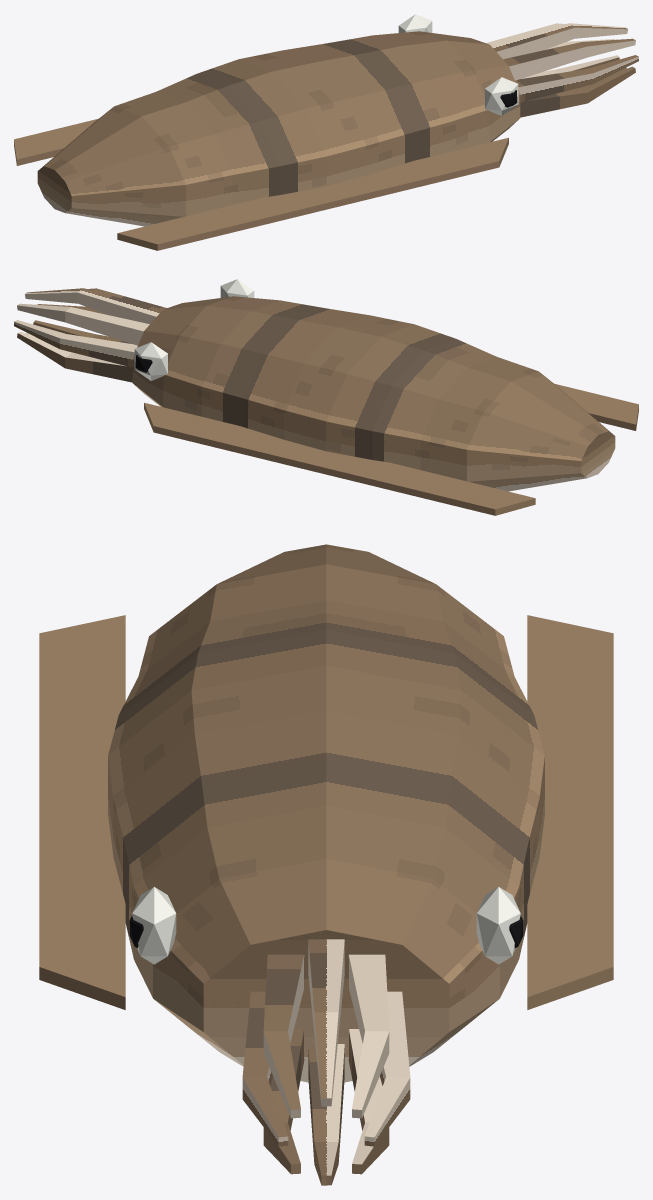
The model's file is cuttlefish.glb.
The picture shows the model from 3 angles, top to bottom: view 1: azimuth 30°, elevation 25°; view 2: azimuth 150°, elevation 25°; view 3: azimuth 270°, elevation 25°; orthographic projection. The views are drawn at different scales.
Parts seen in each view (by area): view 1: fish_cuttlefish; view 2: fish_cuttlefish; view 3: fish_cuttlefish.
Boxes of the visible parts, left/top/right/bottom form: fish_cuttlefish: left=14, top=14, right=638, bottom=250; fish_cuttlefish: left=14, top=279, right=638, bottom=515; fish_cuttlefish: left=39, top=544, right=613, bottom=1185.
Bounding box in the file's own units: 0.9211 × 0.2 × 0.4.
Materials: 4 (1 with a texture image).
